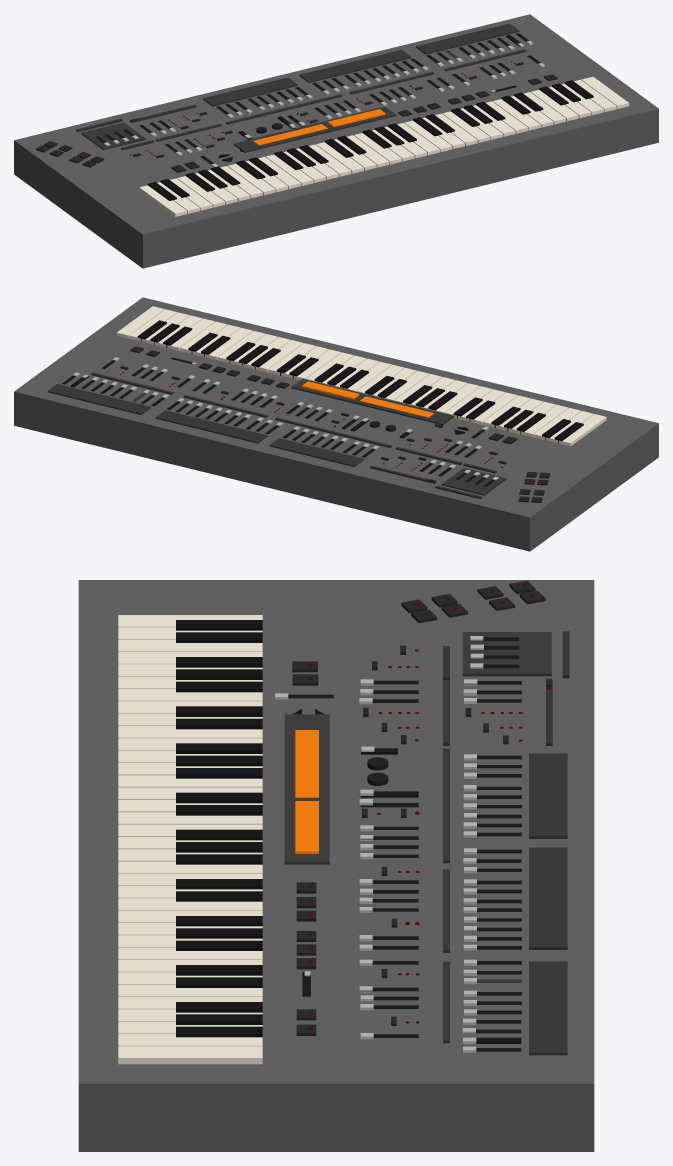
Rendered from jd800_vst_mapped.glb.
3 views of the same model, one above another, from view 1: azimuth 30°, elevation 25°; view 2: azimuth 150°, elevation 25°; view 3: azimuth 270°, elevation 25° (orthographic). The views are drawn at different scales.
Visible parts, largest first — view 1: synth_body.1, panel1.1, panel3, panel3.1, panel2, panel1, Key_C1, Key_C6, panel1.2, Key_F1, Key_F4, Key_F5 (+18 smaller); view 2: synth_body.1, panel1.1, panel3, panel3.1, panel2, panel1, Key_C1, Key_C6, panel1.2, Key_F1, Key_F4, Key_F5 (+14 smaller); view 3: synth_body.1, panel1.1, panel3, panel3.1, panel1, panel2, Key_C6, panel1.2, Key_E3, Key_B3, Key_E2, Key_E4 (+58 smaller).
Part boxes in pixels (left/top/right/bottom): synth_body.1: left=14, top=14, right=658, bottom=268; panel1.1: left=233, top=106, right=396, bottom=152; panel3: left=299, top=50, right=411, bottom=82; panel3.1: left=416, top=23, right=519, bottom=54; panel2: left=203, top=77, right=297, bottom=106; panel1: left=81, top=122, right=145, bottom=150; Key_C1: left=139, top=185, right=187, bottom=216; Key_C6: left=581, top=76, right=629, bottom=108; panel1.2: left=253, top=124, right=327, bottom=145; Key_F1: left=177, top=176, right=225, bottom=207; Key_F4: left=442, top=111, right=490, bottom=142; Key_F5: left=530, top=90, right=578, bottom=121; synth_body.1: left=14, top=297, right=658, bottom=551; panel1.1: left=291, top=379, right=453, bottom=425; panel3: left=155, top=410, right=267, bottom=443; panel3.1: left=47, top=384, right=150, bottom=414; panel2: left=269, top=438, right=363, bottom=466; panel1: left=441, top=468, right=506, bottom=495; Key_C1: left=558, top=414, right=606, bottom=446; Key_C6: left=116, top=306, right=164, bottom=338; panel1.2: left=360, top=396, right=434, bottom=417; Key_F1: left=520, top=405, right=568, bottom=437; Key_F4: left=255, top=340, right=303, bottom=372; Key_F5: left=167, top=318, right=215, bottom=350; synth_body.1: left=78, top=580, right=594, bottom=1151; panel1.1: left=284, top=714, right=329, bottom=864; panel3: left=529, top=847, right=567, bottom=949; panel3.1: left=529, top=961, right=567, bottom=1055; panel1: left=462, top=632, right=551, bottom=676; panel2: left=529, top=753, right=567, bottom=838; Key_C6: left=118, top=1046, right=262, bottom=1064; panel1.2: left=295, top=730, right=318, bottom=797; Key_E3: left=118, top=812, right=262, bottom=824; Key_B3: left=118, top=861, right=262, bottom=873; Key_E2: left=118, top=726, right=262, bottom=738; Key_E4: left=118, top=898, right=262, bottom=910.
Size of what is drawn, in the model's own units: 7.96 by 0.6379 by 3.44.
